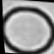no answer: (0, 1, 54, 54)
